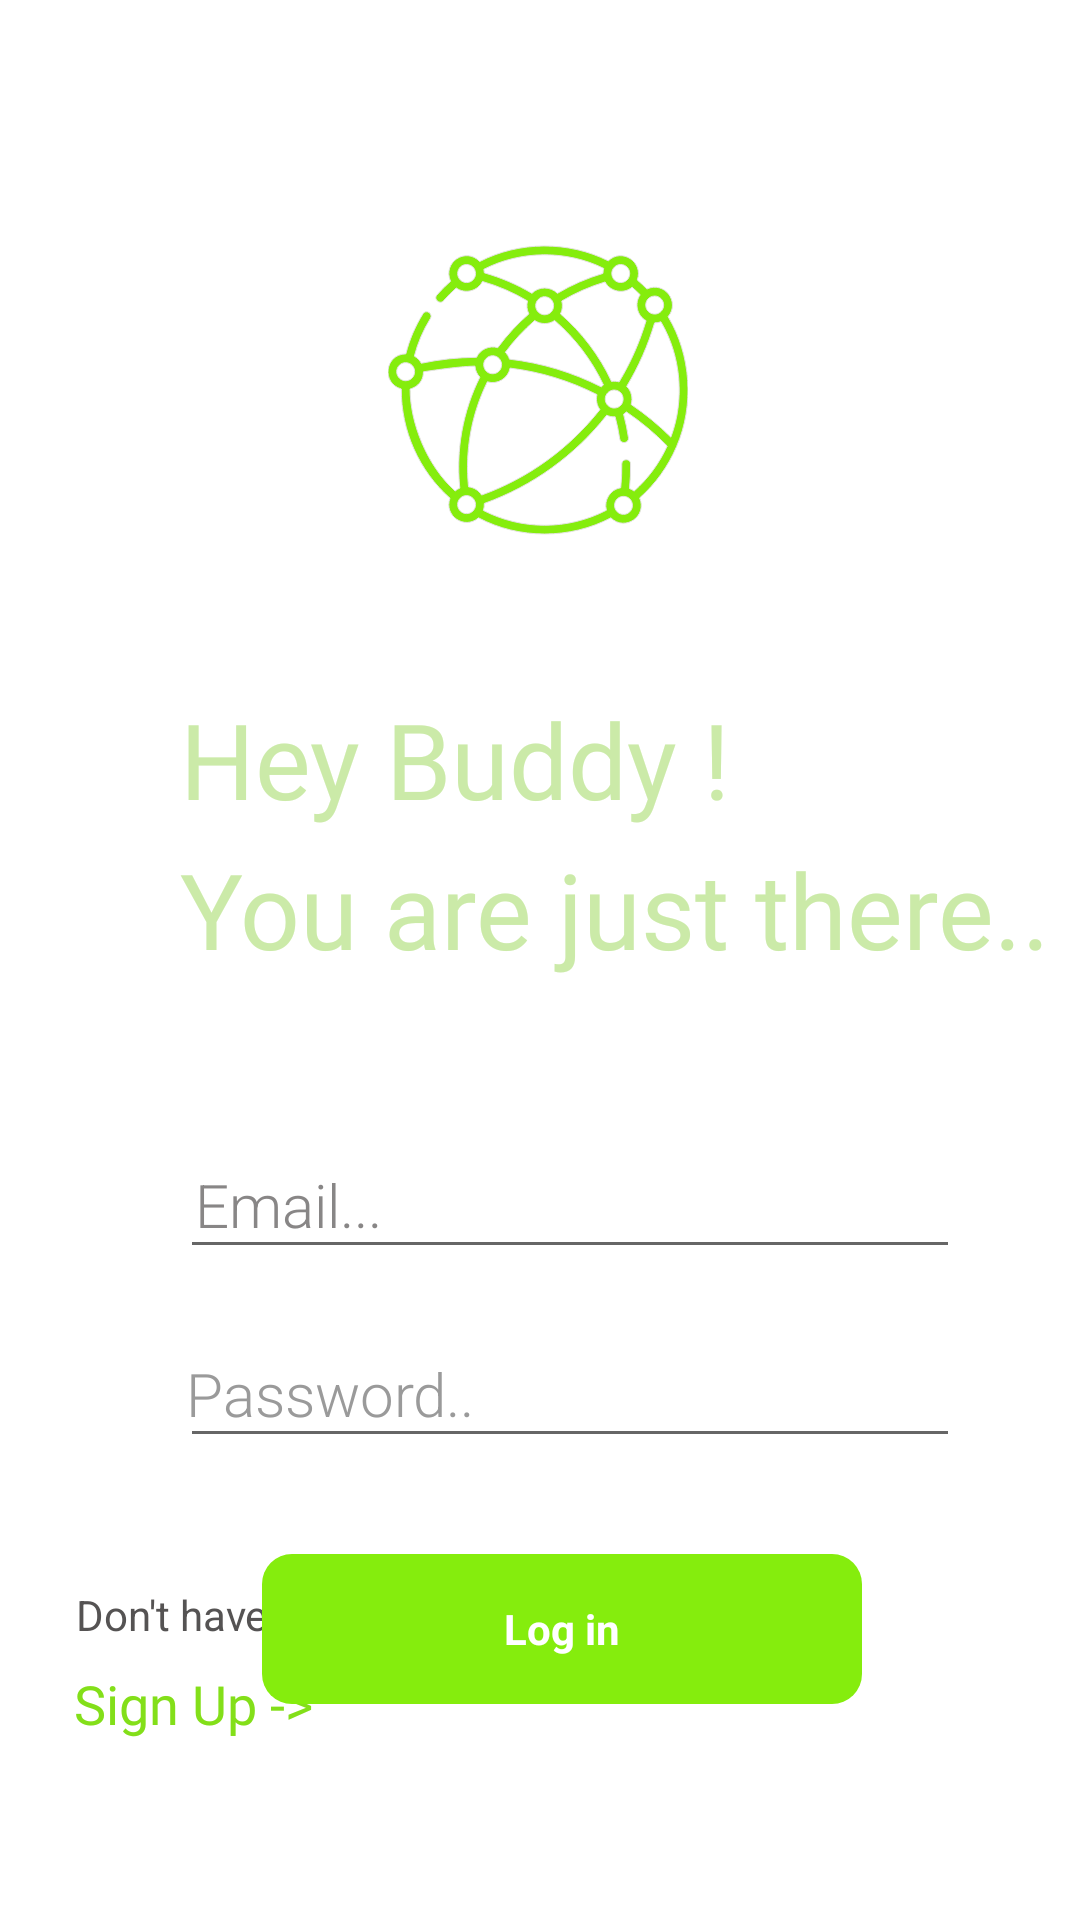

Icon click points for this 1080x1920 phone screenshot, format [x,y]:
knect: [538,390]
